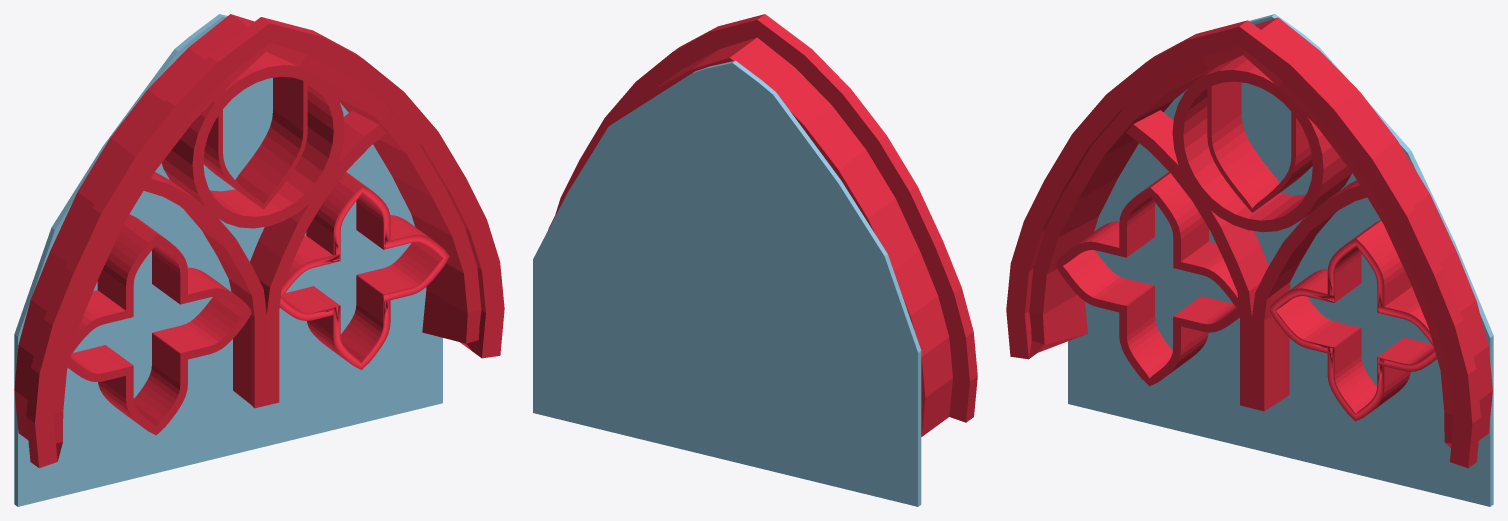
The model's file is B_Window.fbx.
3 views of the same model, side by side, from view 1: azimuth 30°, elevation 25°; view 2: azimuth 150°, elevation 25°; view 3: azimuth 330°, elevation 25° (orthographic). The views are drawn at different scales.
Parts seen in each view (by area): view 1: Window, Window cristal; view 2: Window cristal, Window; view 3: Window, Window cristal.
Boxes of the visible parts, left/top/right/bottom form: Window: left=14, top=14, right=504, bottom=468; Window cristal: left=14, top=14, right=442, bottom=506; Window cristal: left=533, top=60, right=921, bottom=506; Window: left=548, top=14, right=977, bottom=436; Window: left=1006, top=17, right=1492, bottom=468; Window cristal: left=1068, top=14, right=1493, bottom=506.
Size of the model in its own units: 2053 by 1925 by 328.
